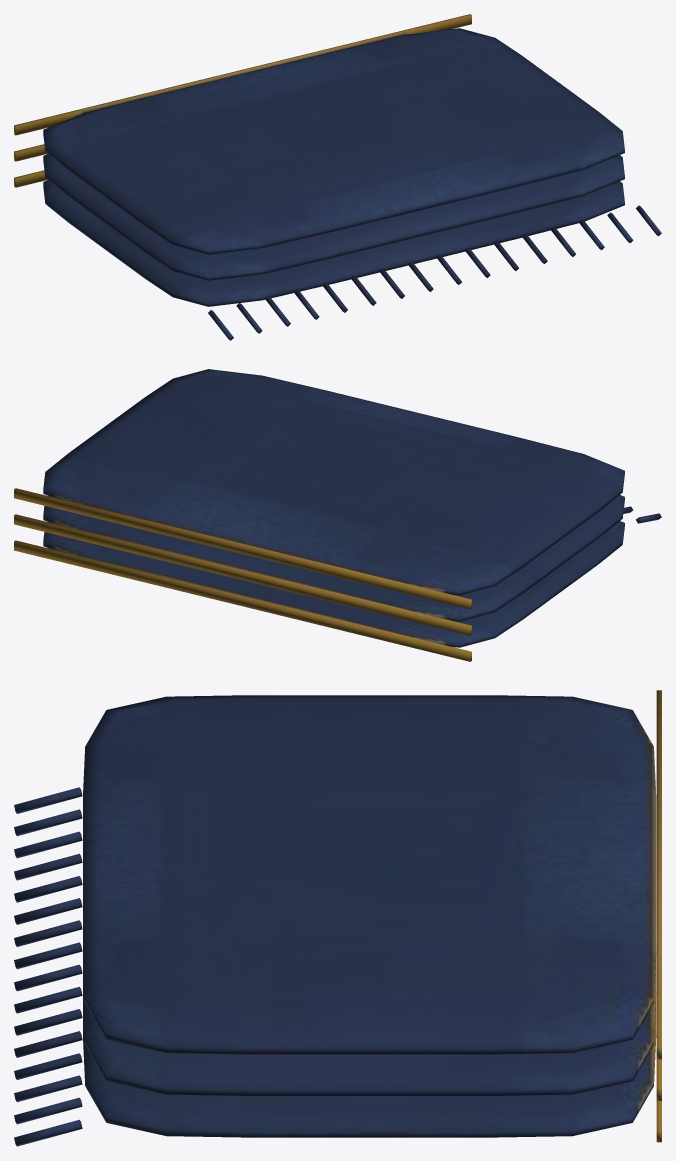
The model's file is blanket_indigo.glb.
3 views of the same model, one above another, from view 1: azimuth 30°, elevation 25°; view 2: azimuth 150°, elevation 25°; view 3: azimuth 270°, elevation 25° (orthographic). The views are drawn at different scales.
Visible parts, largest first — view 1: prop_blanket_indigo_felt; view 2: prop_blanket_indigo_felt; view 3: prop_blanket_indigo_felt.
Boxes of the visible parts, bbox=[...] form: prop_blanket_indigo_felt: bbox=[14, 14, 661, 340]; prop_blanket_indigo_felt: bbox=[14, 369, 661, 661]; prop_blanket_indigo_felt: bbox=[14, 690, 661, 1146].
Bounding box in the file's own units: 1.28 × 0.2194 × 0.9883.
1 material, 1 textured.
